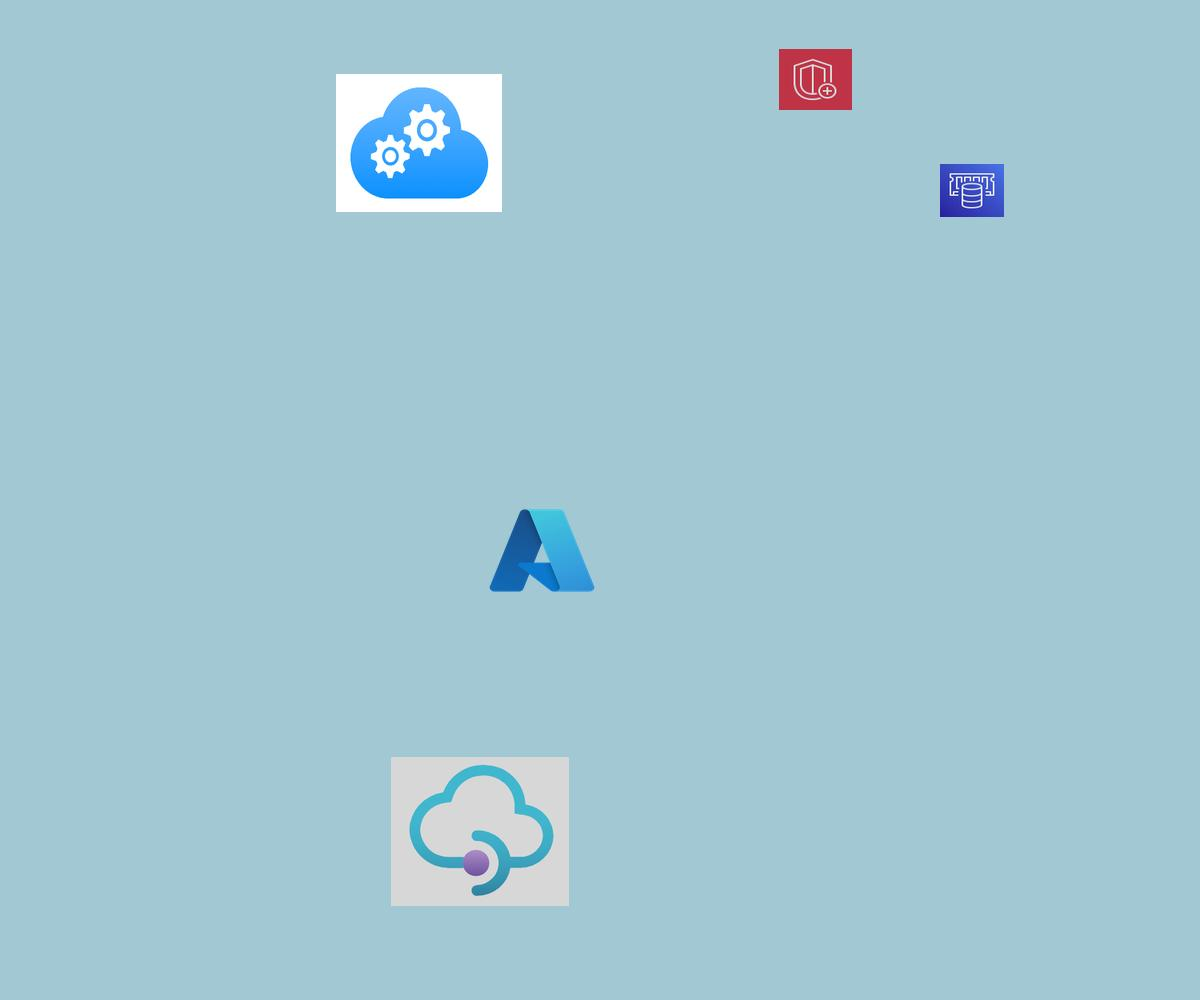AWS-ElastiCache: (940, 164, 1004, 217)
AWS-Shield: (779, 49, 852, 110)
Azure_api_gateway: (391, 757, 569, 906)
Azure_cloud_services: (336, 74, 502, 212)
Azure_services: (485, 503, 599, 598)
